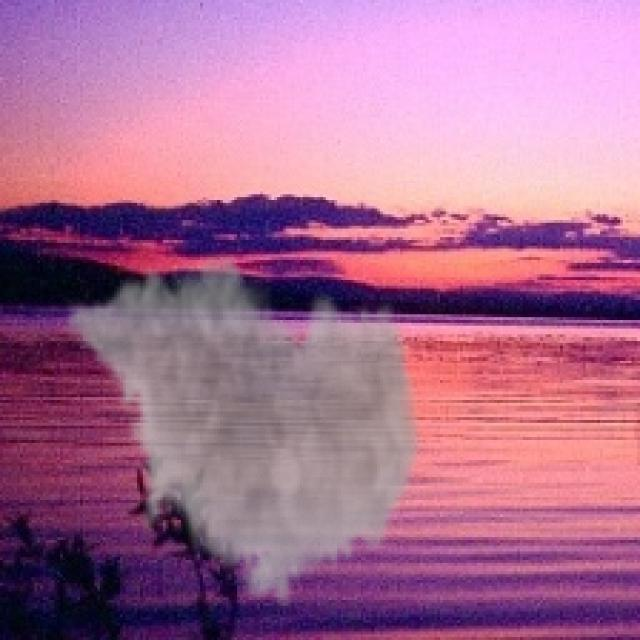smoke: (63, 243, 426, 614)
